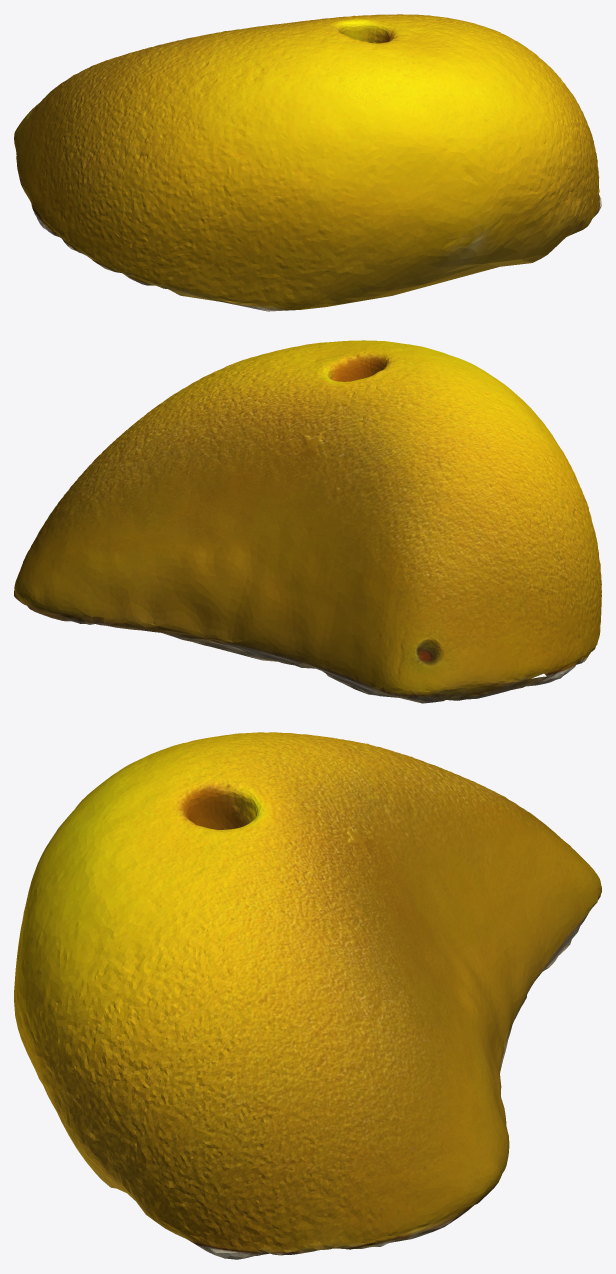
Rendered from Teknik_BigCurledSlopers_1_5_num1.glb.
3 renders of one model, top to bottom at view 1: azimuth 30°, elevation 25°; view 2: azimuth 150°, elevation 25°; view 3: azimuth 270°, elevation 25°, orthographic. The views are drawn at different scales.
Size of the model in its own units: 0.7 by 0.3166 by 0.5366.
Materials: 1 (1 with a texture image).
